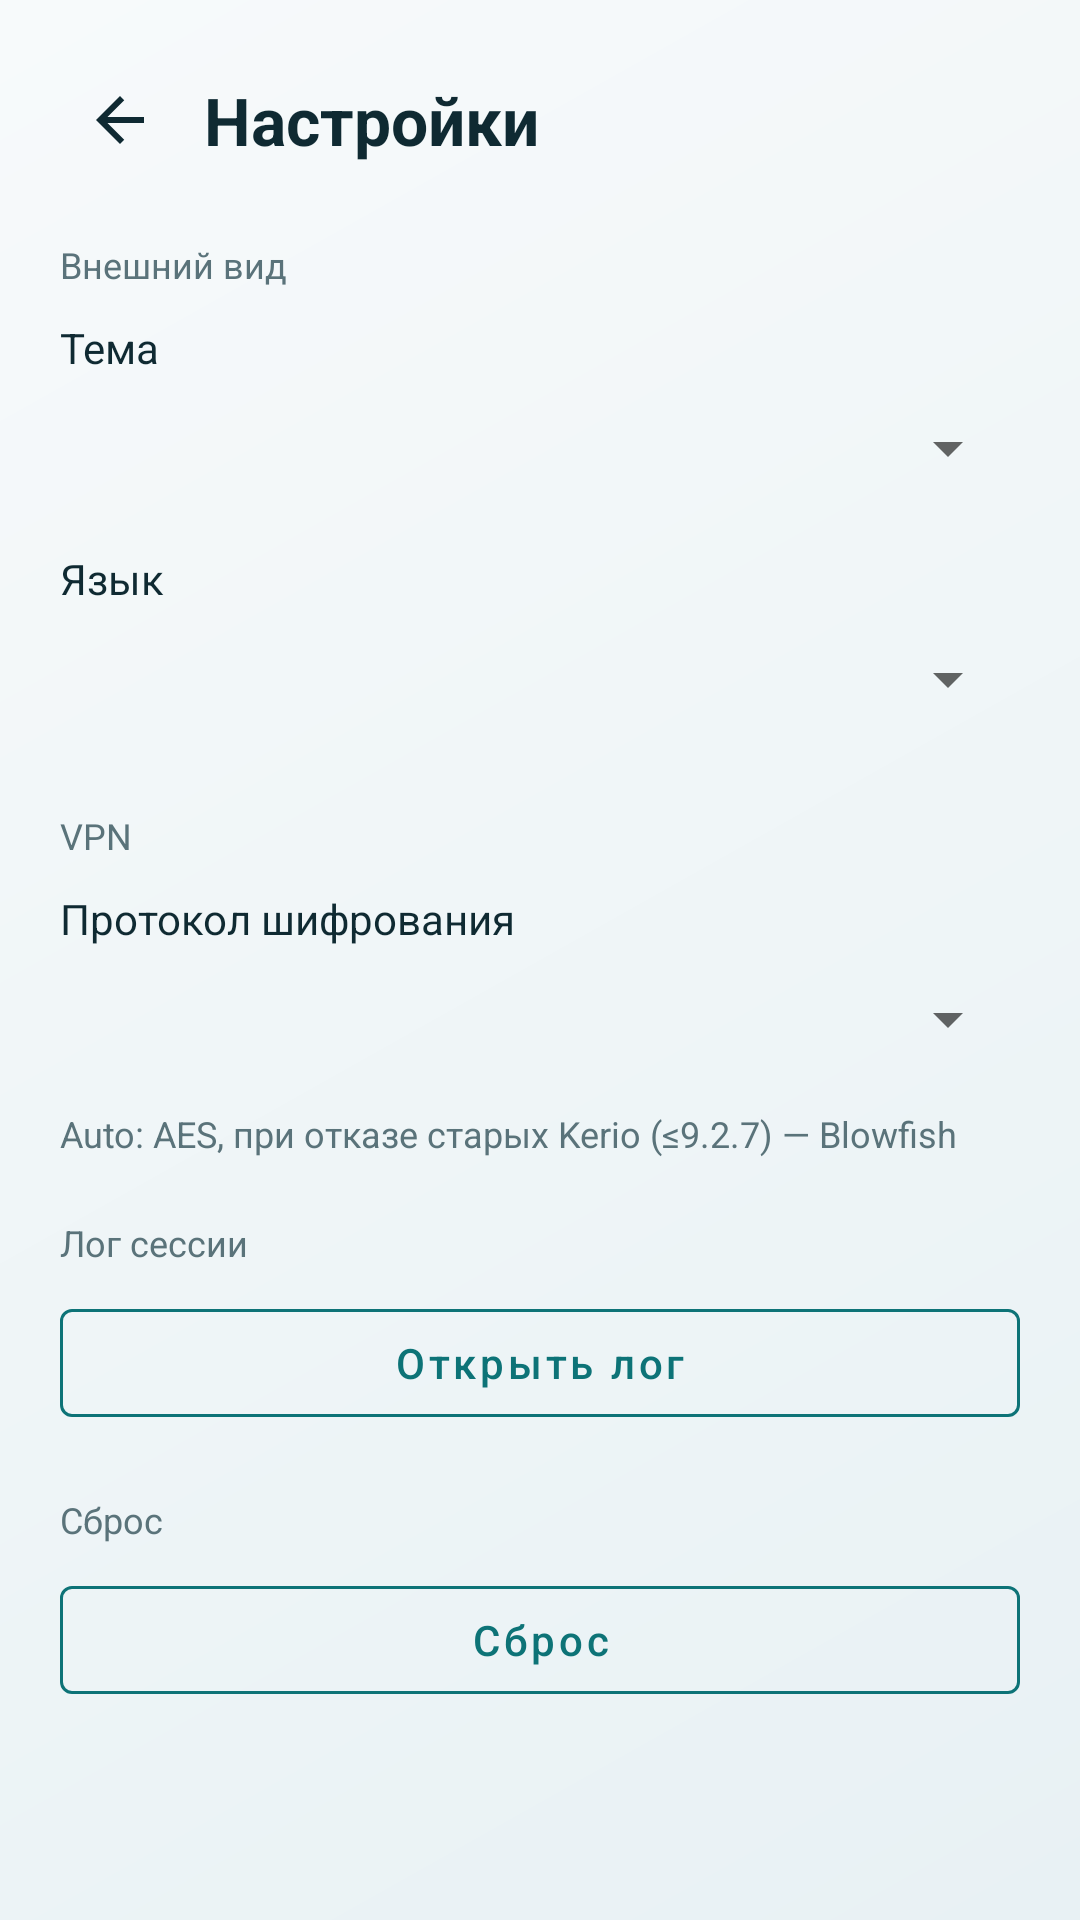

Icons on this 1080w x 1920h Android screen, each with its box as Rect(x1, y1, x2, y2):
Назад: Rect(96, 96, 144, 144)
